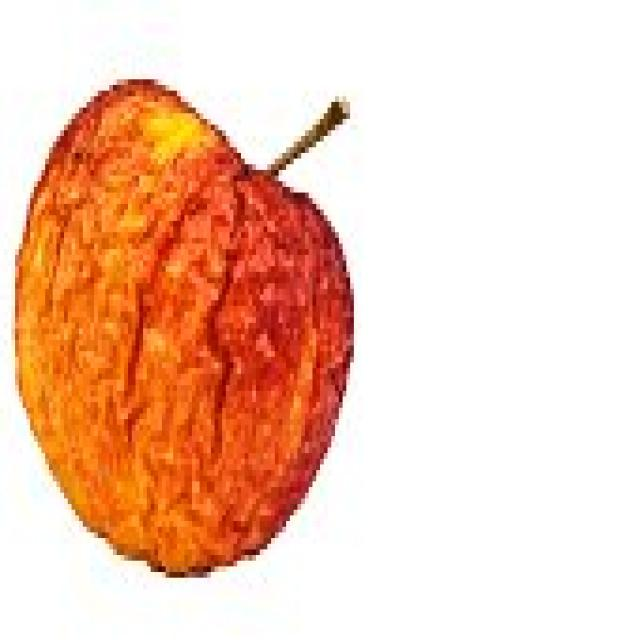overripe: (13, 70, 360, 579)
